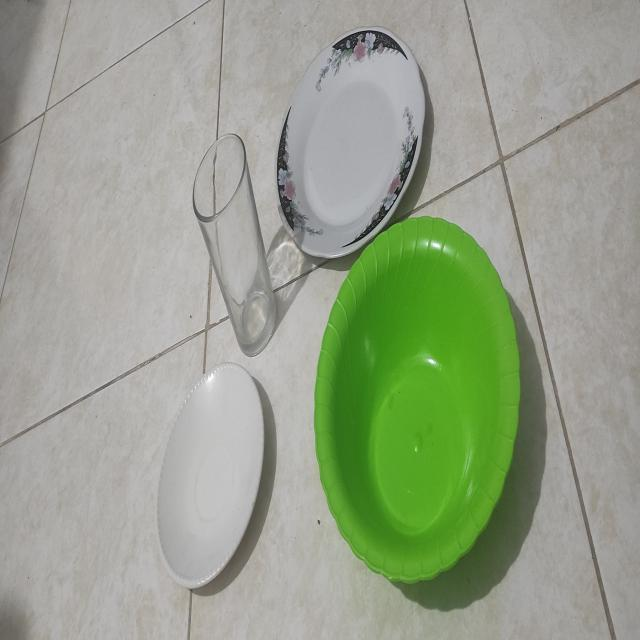ceramic plate: (308, 207, 546, 614), (268, 19, 440, 266), (144, 349, 274, 604)
